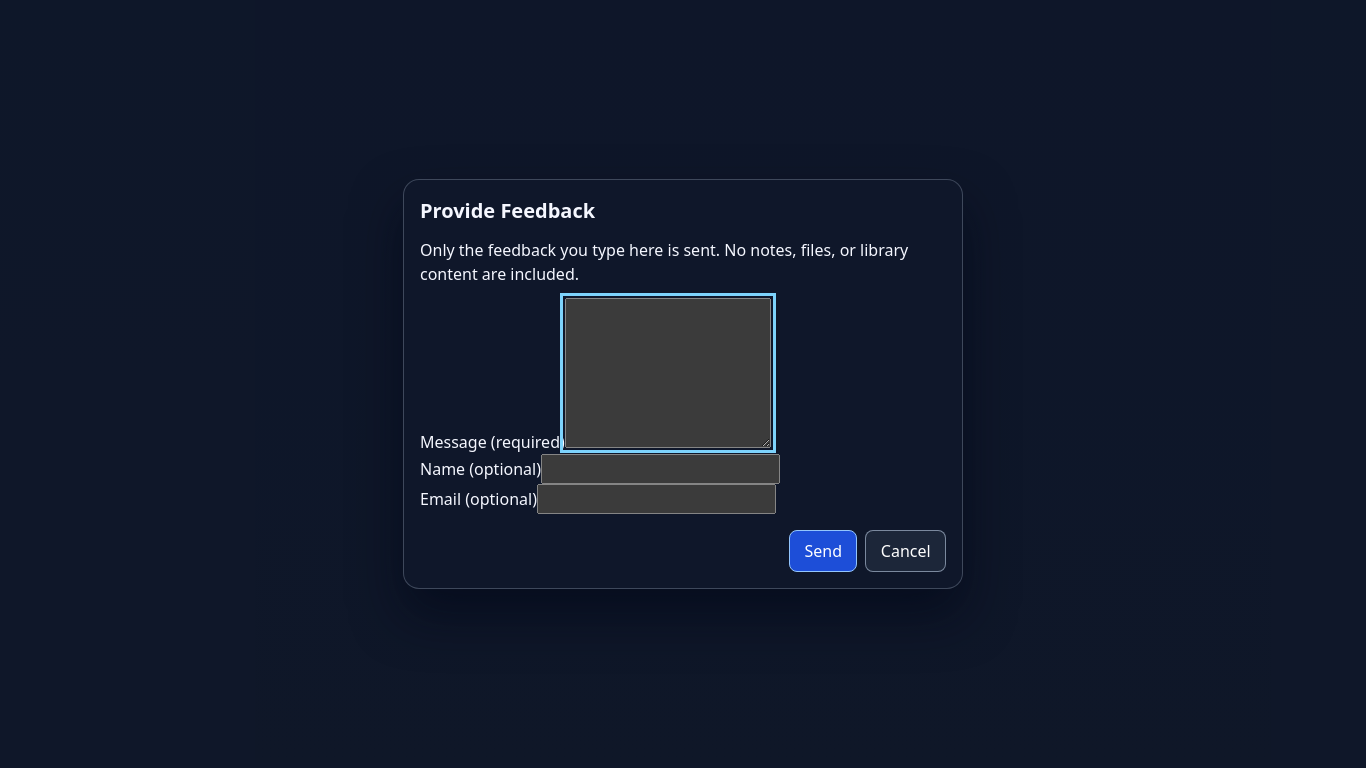
Test case: Feedback dialog › keeps the message and reports failure when sending fails
Type "Please keep me." into the text box labelled "Message (required)" at x=668, y=373, box [565,298,771,448]
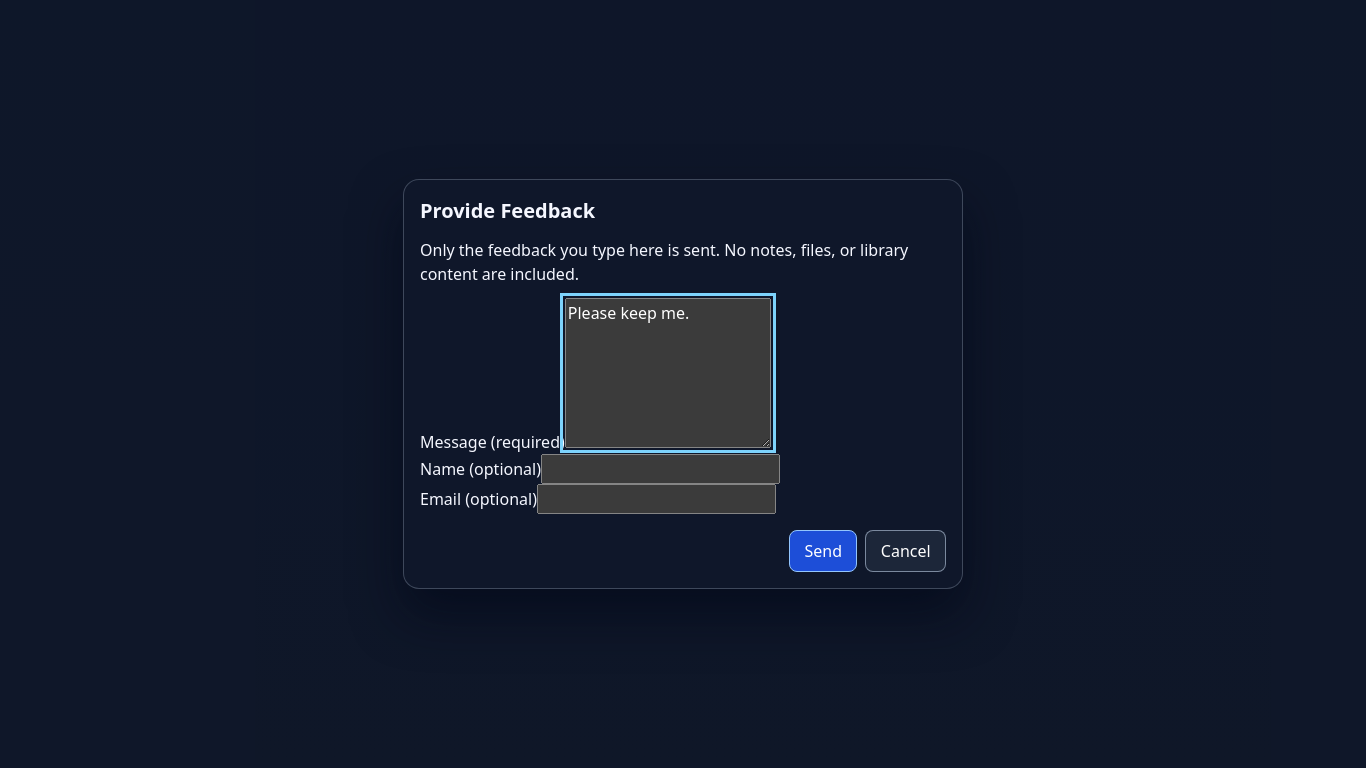
Click the button "Send" at x=823, y=551, box [789,530,857,572]
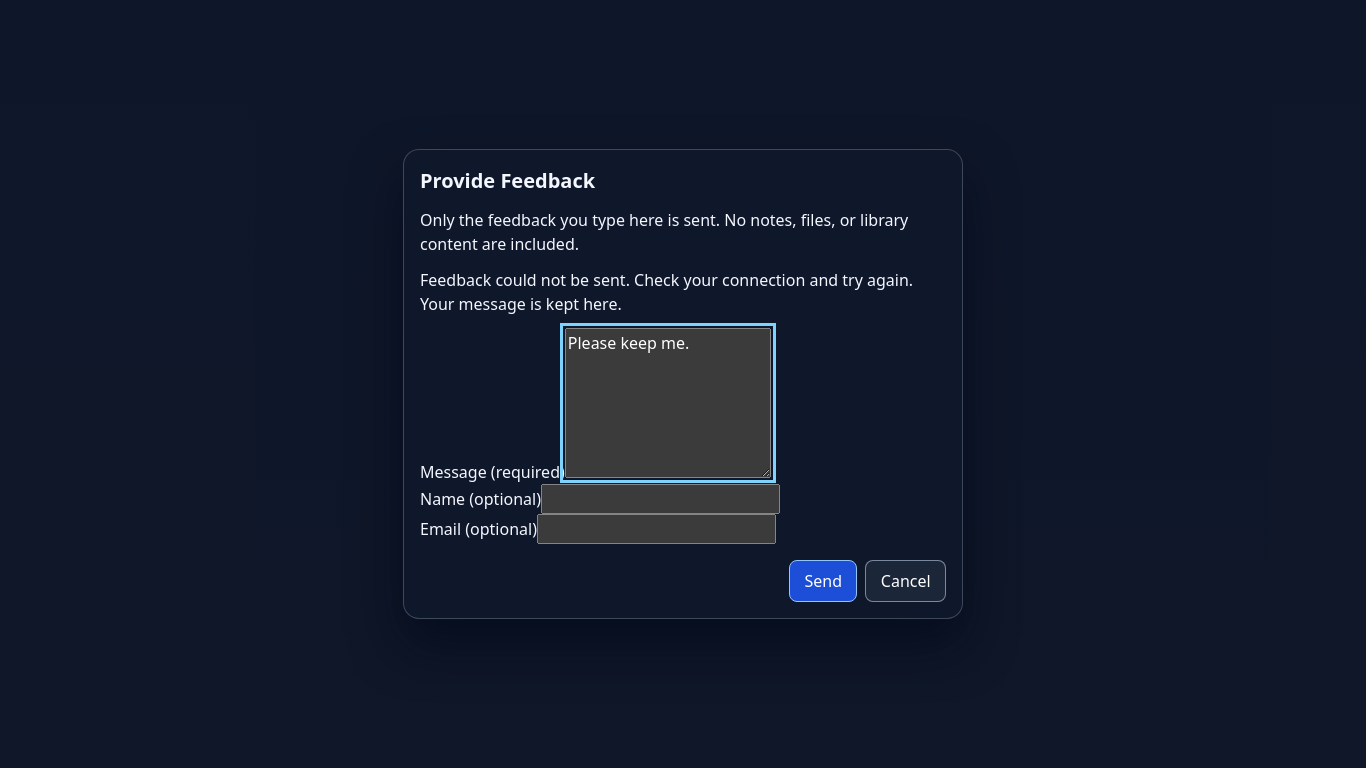
expect the message shows "Feedback could not be sent.": met, box [420,269,913,315]
